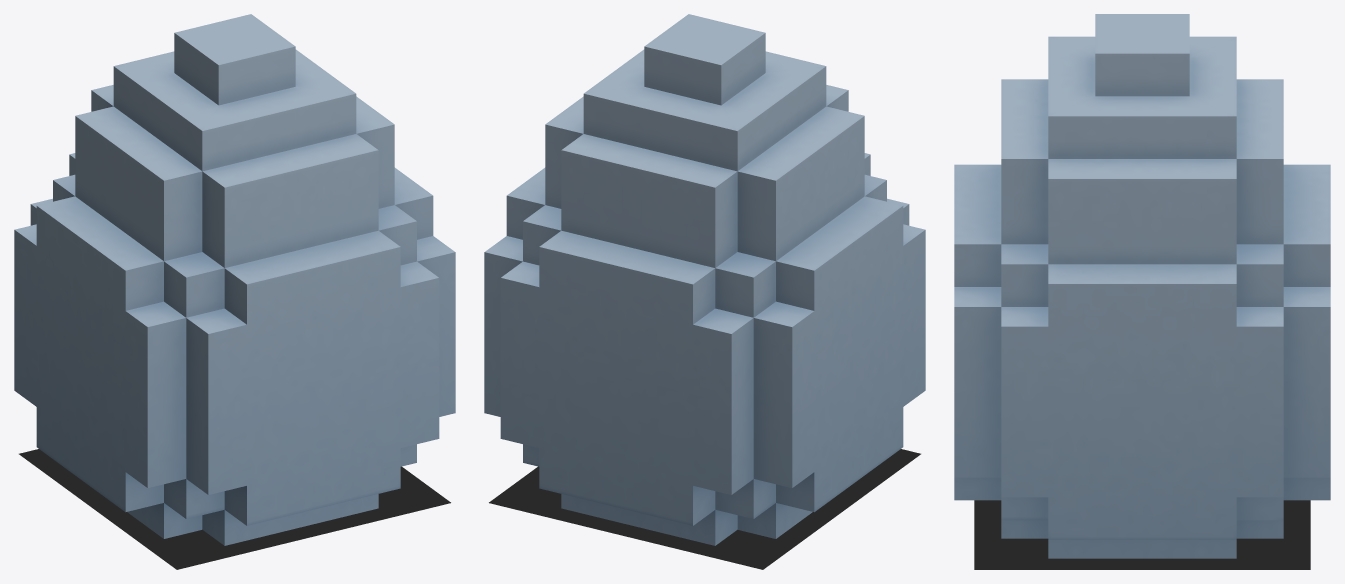
Rendered from egg.FBX.
3 renders of one model, left to right at view 1: azimuth 30°, elevation 25°; view 2: azimuth 150°, elevation 25°; view 3: azimuth 270°, elevation 25°, orthographic. The views are drawn at different scales.
Parts seen in each view (by area): view 1: egg, egg_soft_shadow; view 2: egg, egg_soft_shadow; view 3: egg, egg_soft_shadow.
Boxes of the visible parts, bbox=[...] form: egg: bbox=[14, 14, 455, 545]; egg_soft_shadow: bbox=[19, 449, 450, 569]; egg: bbox=[484, 14, 925, 545]; egg_soft_shadow: bbox=[489, 449, 920, 569]; egg: bbox=[954, 14, 1330, 558]; egg_soft_shadow: bbox=[974, 500, 1310, 569].
Bounding box in the file's own units: 800 × 1100 × 800.
